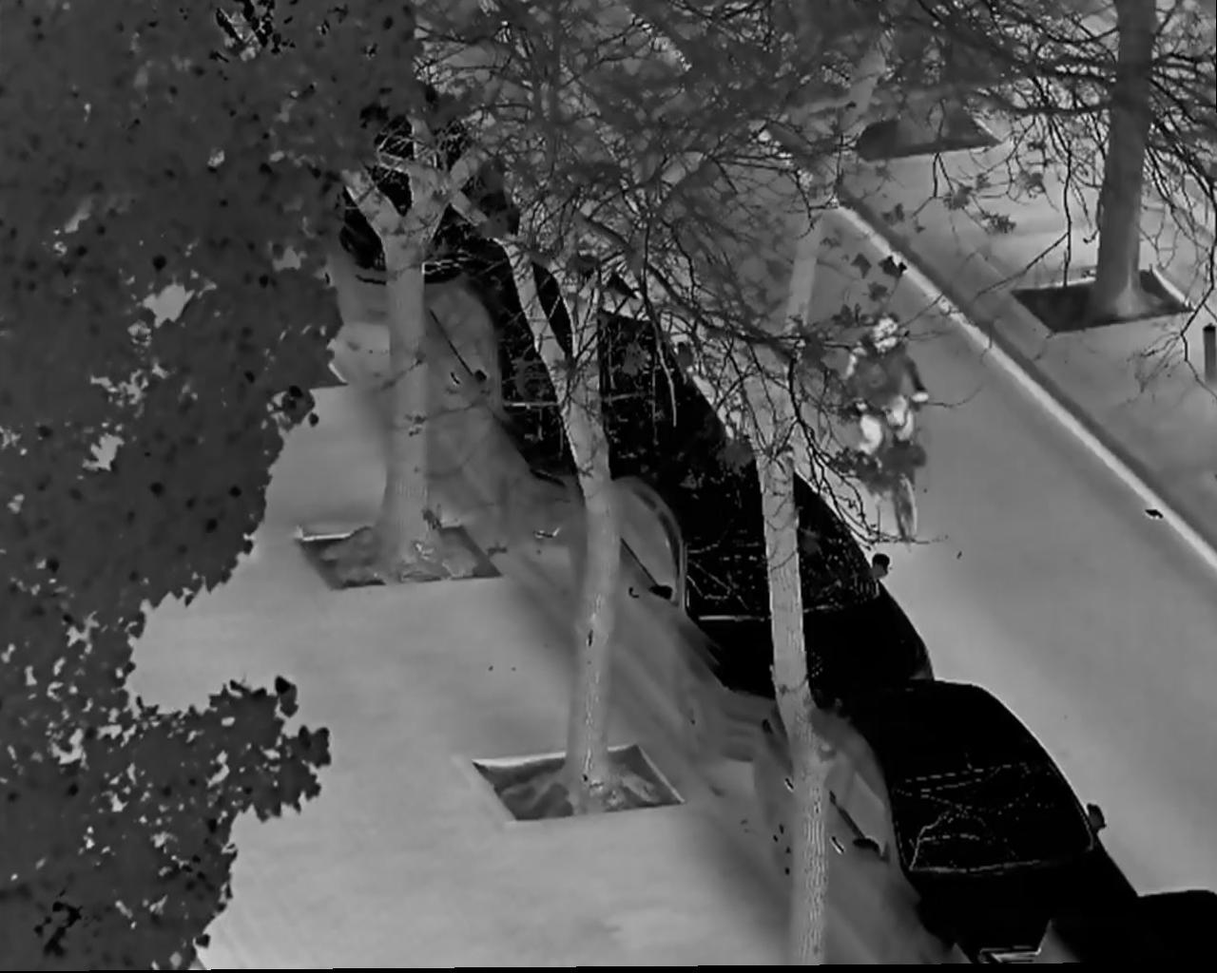person: (834, 309, 934, 483)
